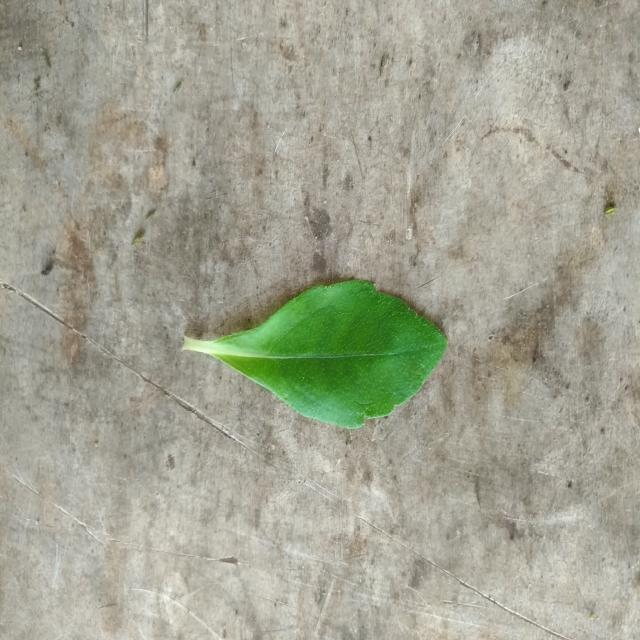bringaraja: (184, 280, 446, 429)
